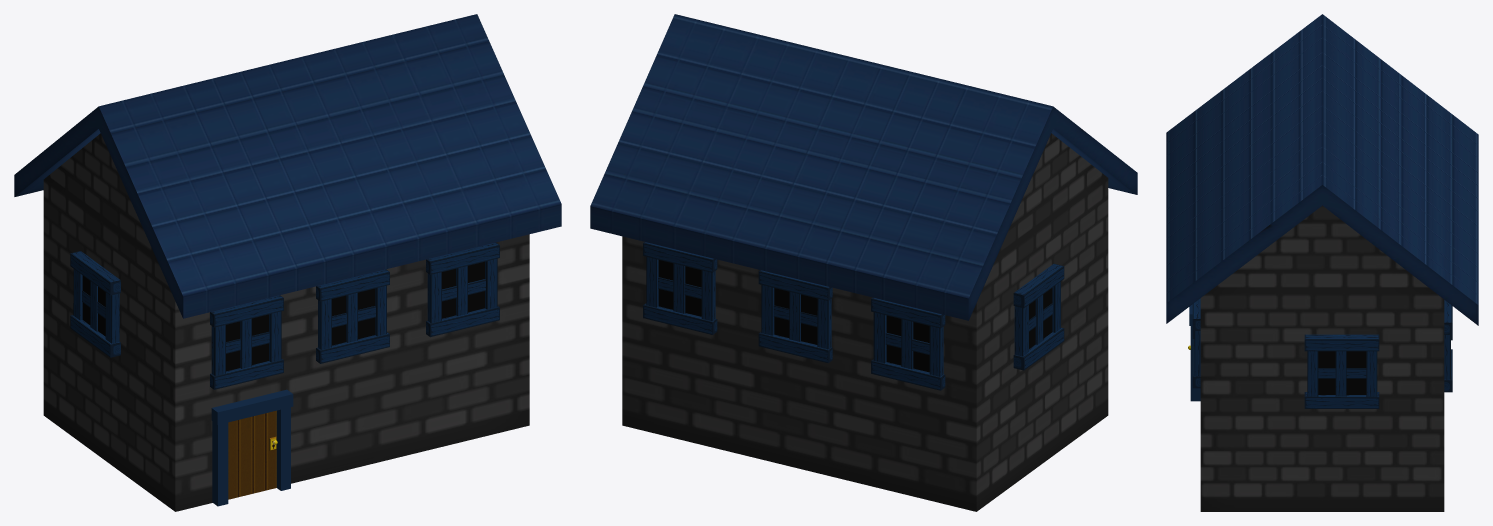
The model's file is Royal_town_house_4.fbx.
3 views of the same model, side by side, from view 1: azimuth 30°, elevation 25°; view 2: azimuth 150°, elevation 25°; view 3: azimuth 270°, elevation 25° (orthographic). The views are drawn at different scales.
Parts seen in each view (by area): view 1: polySurface66; view 2: polySurface66; view 3: polySurface66.
Part boxes in pixels (x1,y1,x2,y2): polySurface66: (14,14,561,511); polySurface66: (590,14,1137,511); polySurface66: (1166,14,1478,511).
Bounding box in the file's own units: 2.51 × 2.28 × 1.94.
